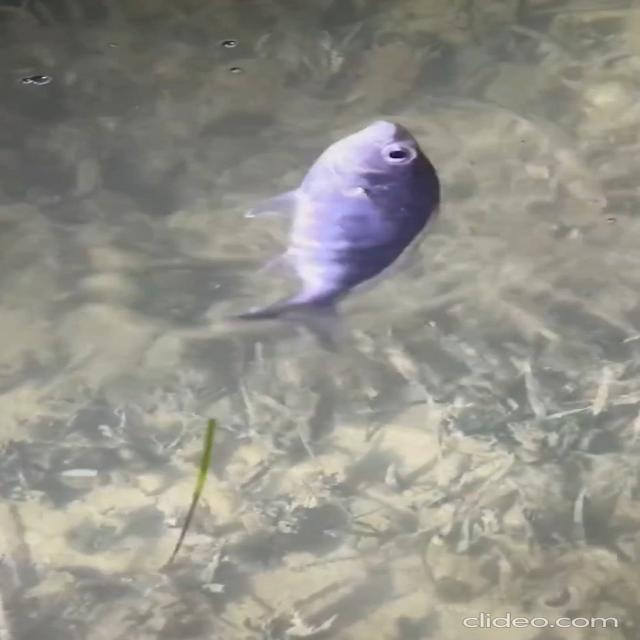fish: (243, 89, 448, 371)
